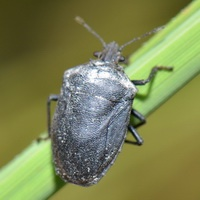insect: (47, 17, 172, 185)
